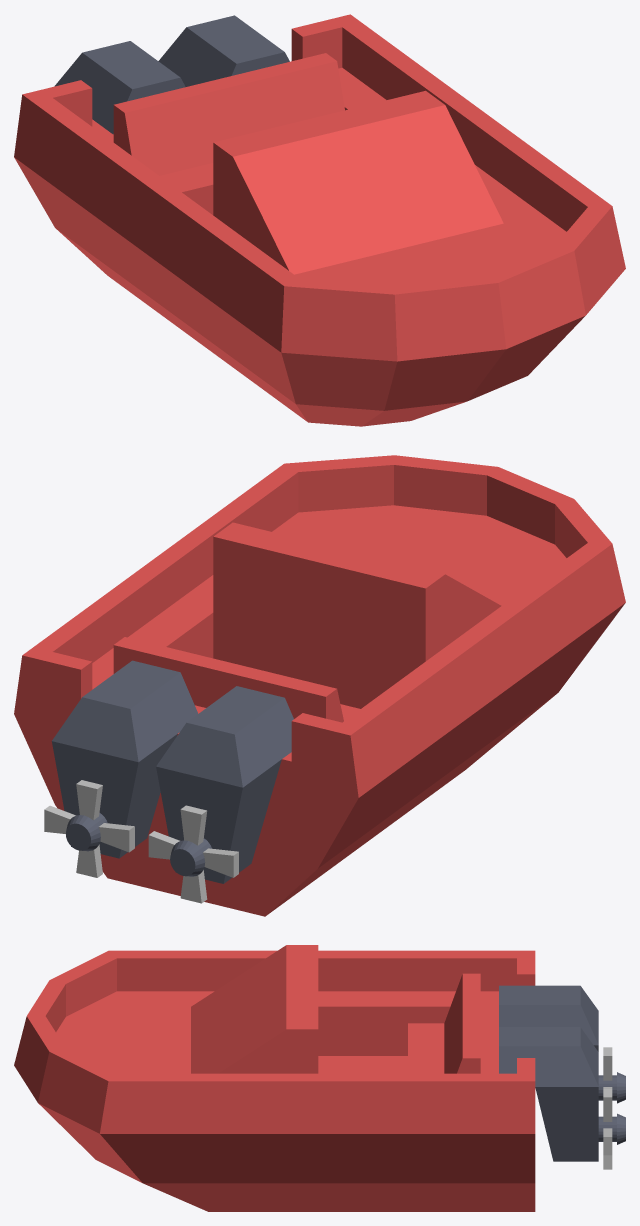
The model's file is watercraftpack_014.glb.
The picture shows the model from 3 angles, top to bottom: view 1: azimuth 30°, elevation 25°; view 2: azimuth 150°, elevation 25°; view 3: azimuth 270°, elevation 25°; orthographic projection. The views are drawn at different scales.
Visible parts, largest first — view 1: Mesh5 Group1 Model, Mesh1 Group2 Group1 Model, Mesh2 Group3 Group1 Model; view 2: Mesh5 Group1 Model, Mesh2 Group3 Group1 Model, Mesh1 Group2 Group1 Model, Mesh3 Group4 Group1 Model, Mesh4 Group5 Group1 Model; view 3: Mesh5 Group1 Model, Mesh1 Group2 Group1 Model, Mesh2 Group3 Group1 Model, Mesh3 Group4 Group1 Model.
Part boxes in pixels (left/top/right/bottom): Mesh5 Group1 Model: left=14, top=14, right=625, bottom=426; Mesh1 Group2 Group1 Model: left=158, top=15, right=289, bottom=86; Mesh2 Group3 Group1 Model: left=54, top=41, right=185, bottom=134; Mesh5 Group1 Model: left=14, top=455, right=625, bottom=916; Mesh2 Group3 Group1 Model: left=156, top=686, right=293, bottom=883; Mesh1 Group2 Group1 Model: left=51, top=660, right=198, bottom=858; Mesh3 Group4 Group1 Model: left=44, top=780, right=134, bottom=877; Mesh4 Group5 Group1 Model: left=148, top=805, right=238, bottom=903; Mesh5 Group1 Model: left=14, top=945, right=535, bottom=1211; Mesh1 Group2 Group1 Model: left=499, top=1027, right=625, bottom=1161; Mesh2 Group3 Group1 Model: left=499, top=985, right=625, bottom=1103; Mesh3 Group4 Group1 Model: left=603, top=1089, right=612, bottom=1169.
Size of the model in its own units: 1.78 by 1.17 by 3.37.
